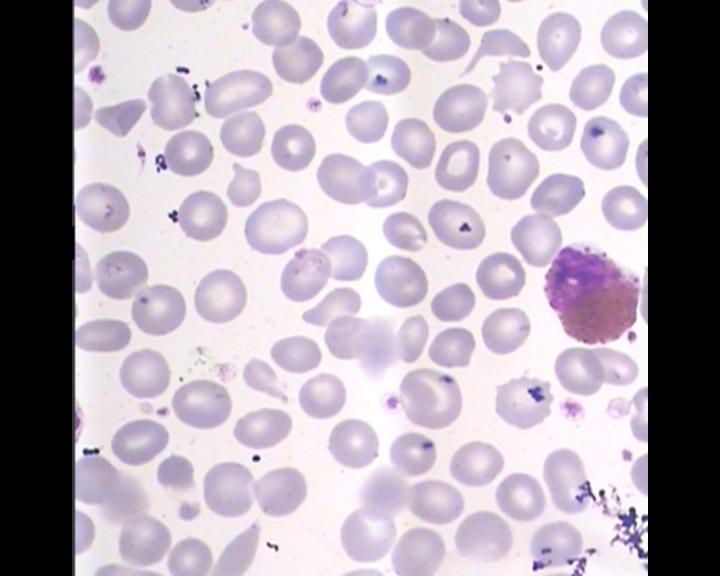eosi: (540, 240, 644, 348)
